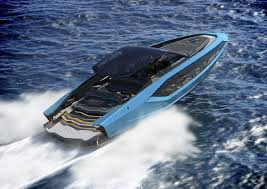boat: (43, 29, 228, 148)
